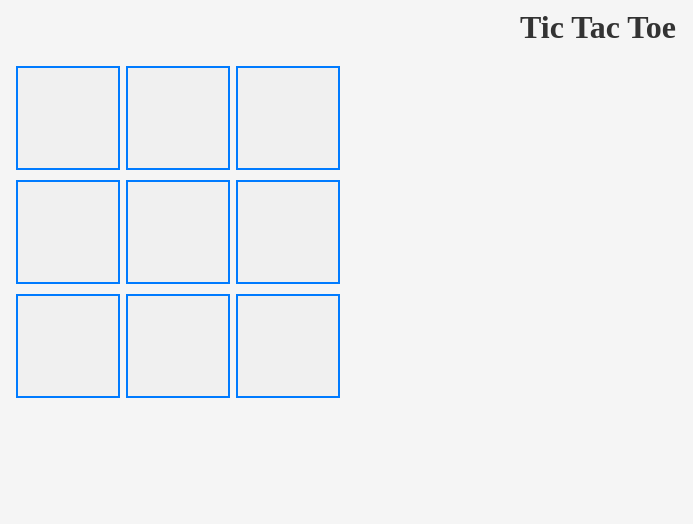
Test: TicTacToe › should determine the winner
The image size is (693, 524).
// Simulate a winning scenario for 'X'
What coordinates should you click on to do the following:
click the 1st element with class "cell"
I would click on:
 (68, 118)
Its box is x1=16 y1=66 x2=120 y2=170.
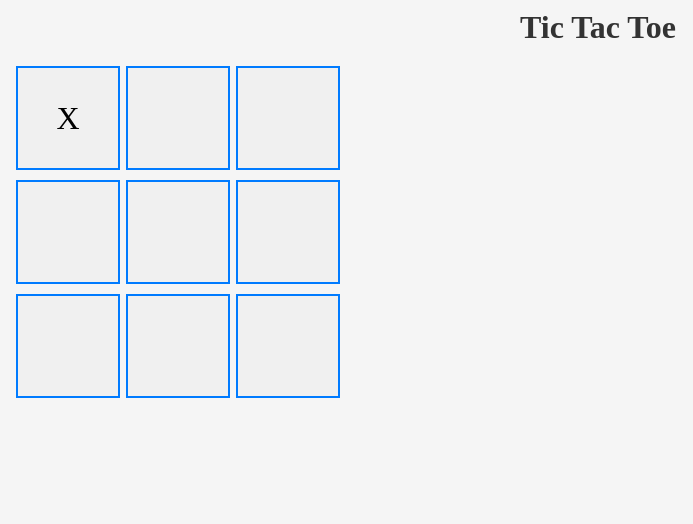
What coordinates should you click on to do the following:
click the 4th element with class "cell"
I would click on:
 (68, 232)
Its box is x1=16 y1=180 x2=120 y2=284.
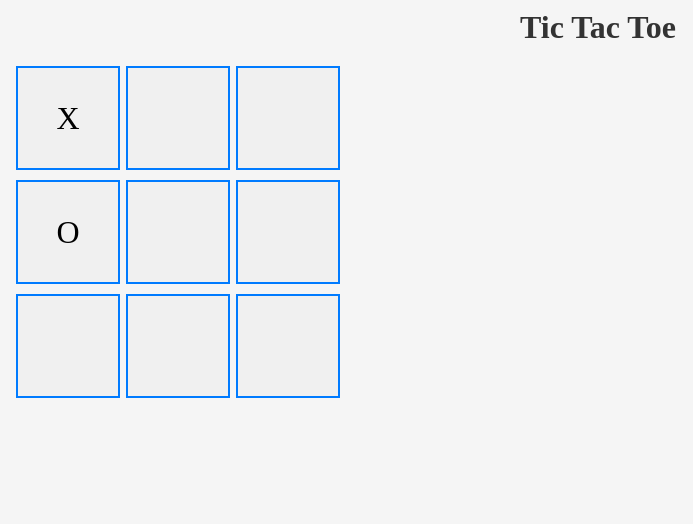
What coordinates should you click on to do the following:
click the 2nd element with class "cell"
I would click on:
 (178, 118)
Its box is x1=126 y1=66 x2=230 y2=170.
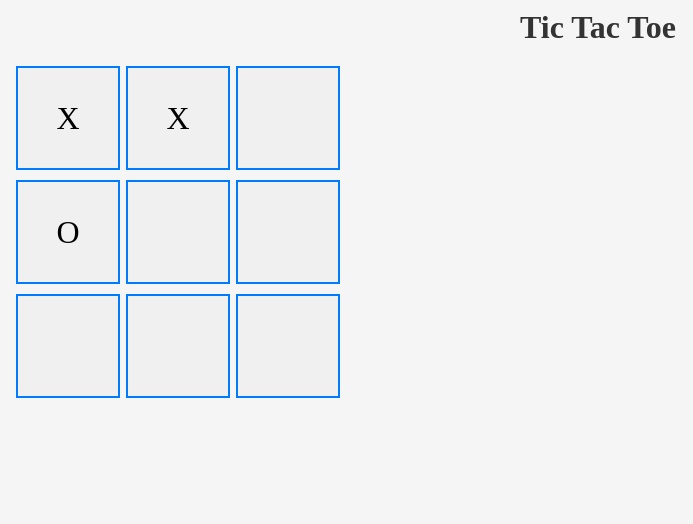
What coordinates should you click on to do the following:
click the 5th element with class "cell"
I would click on:
 (178, 232)
Its box is x1=126 y1=180 x2=230 y2=284.
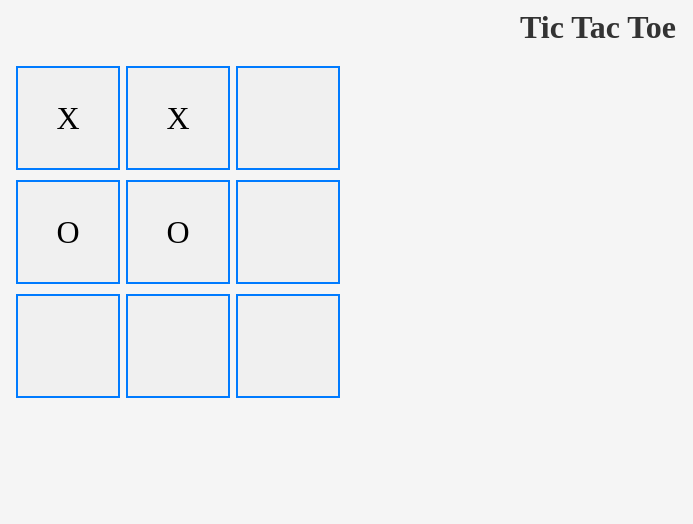
What coordinates should you click on to do the following:
click the 3rd element with class "cell"
I would click on:
 (288, 118)
Its box is x1=236 y1=66 x2=340 y2=170.
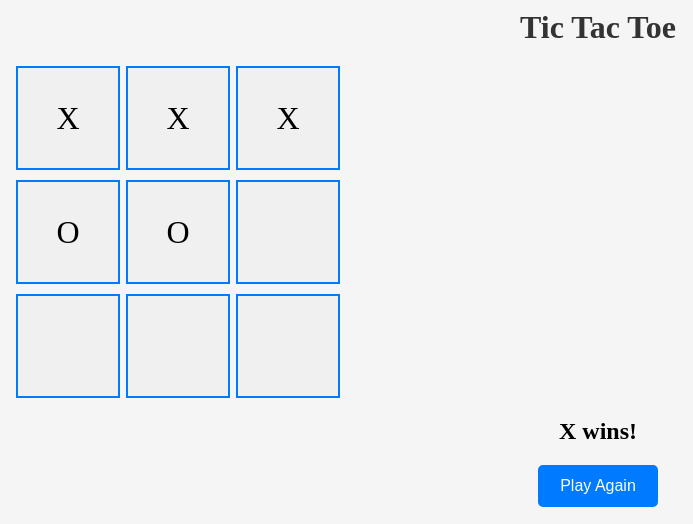
Check: the heading "X wins!" is shown, box x1=559 y1=418 x2=637 y2=444
